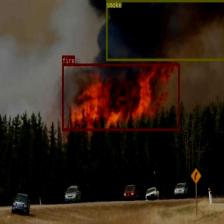fire: (62, 63, 179, 130)
smoke: (105, 0, 224, 60)
